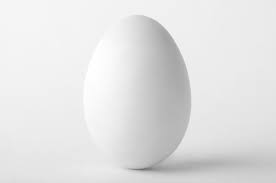eggs: (82, 10, 185, 168)
